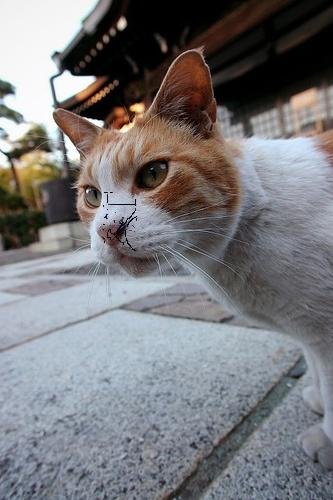tampered: (104, 193, 137, 251)
